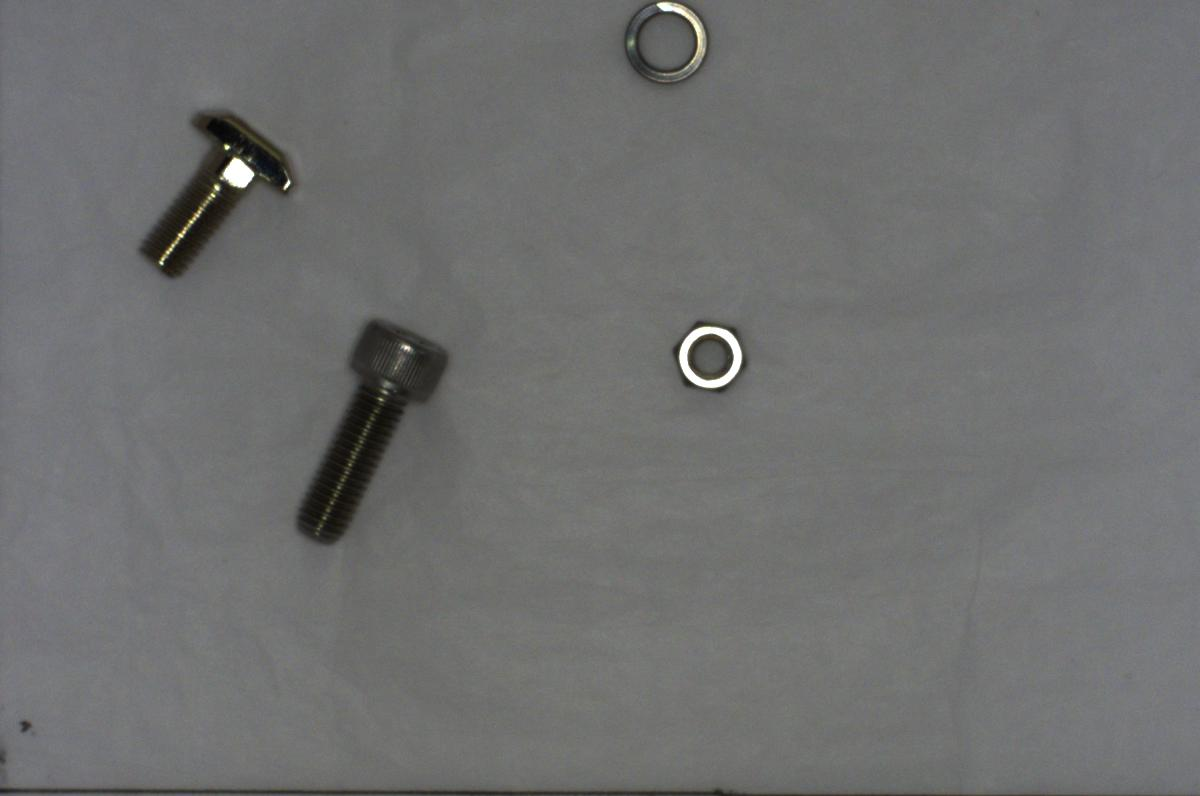Hexagon nut: (661, 316, 754, 395)
Hexagon screw: (285, 309, 459, 548)
Spring washer: (607, 0, 727, 90)
T-shaped screw: (130, 105, 298, 283)
